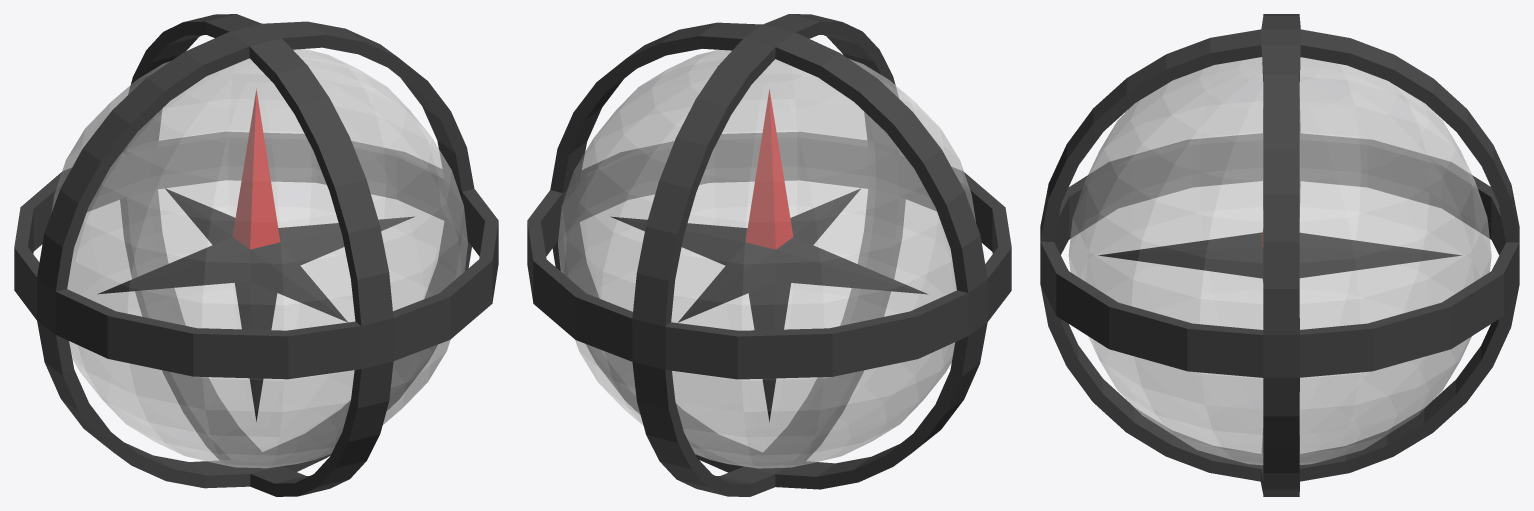
File: 3dCompass.fbx
The picture shows the model from 3 angles, left to right: view 1: azimuth 30°, elevation 25°; view 2: azimuth 150°, elevation 25°; view 3: azimuth 270°, elevation 25°; orthographic projection.
Visible parts, largest first — view 1: Sphere.002, Sphere.003; view 2: Sphere.002, Sphere.003; view 3: Sphere.002, Sphere.003.
Boxes of the visible parts, x1=… form: Sphere.002: x1=14, y1=14, x2=498, y2=496; Sphere.003: x1=98, y1=89, x2=414, y2=421; Sphere.002: x1=527, y1=14, x2=1011, y2=496; Sphere.003: x1=611, y1=89, x2=927, y2=421; Sphere.002: x1=1040, y1=14, x2=1519, y2=496; Sphere.003: x1=1098, y1=229, x2=1461, y2=281.
Bounding box in the file's own units: 15.92 × 15.98 × 15.91.
